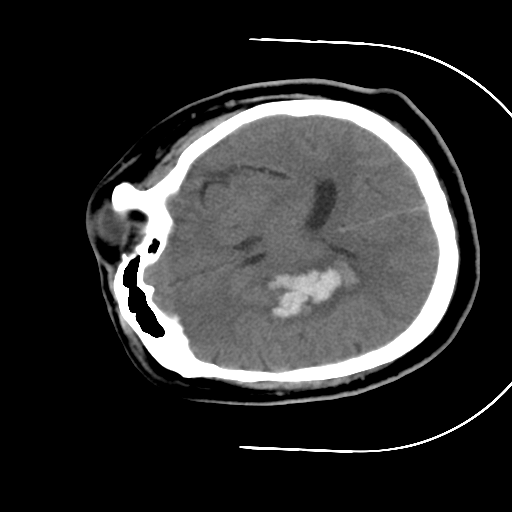a: (253, 249, 370, 335)
